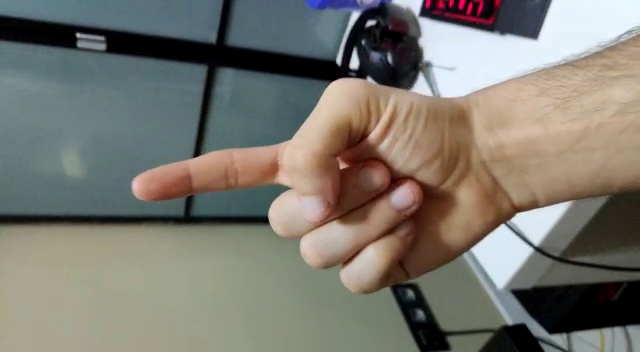One: (127, 74, 401, 294)
